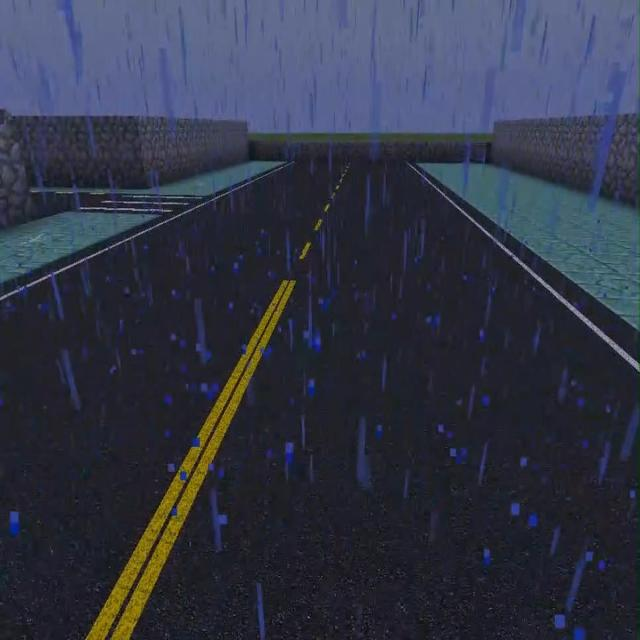8: (76, 195, 199, 212)
crosswalk: (0, 161, 638, 639), (30, 195, 107, 217)
road: (418, 164, 639, 331), (0, 212, 159, 286), (30, 159, 285, 195)
